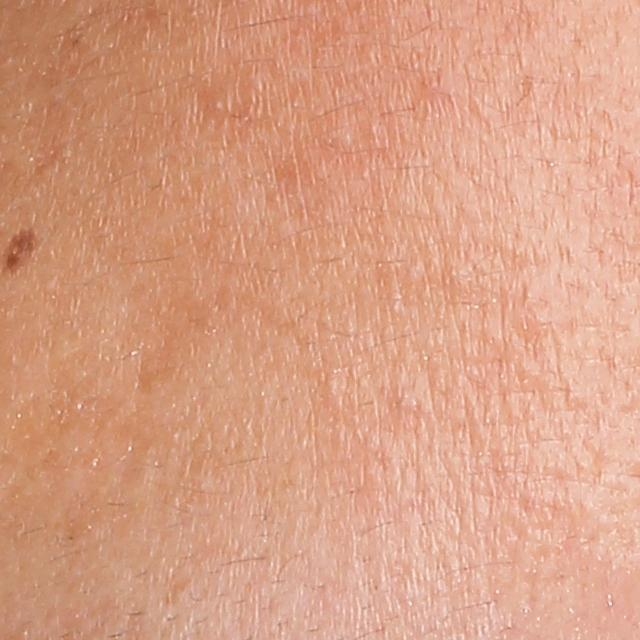nevus: (0, 227, 39, 281)
